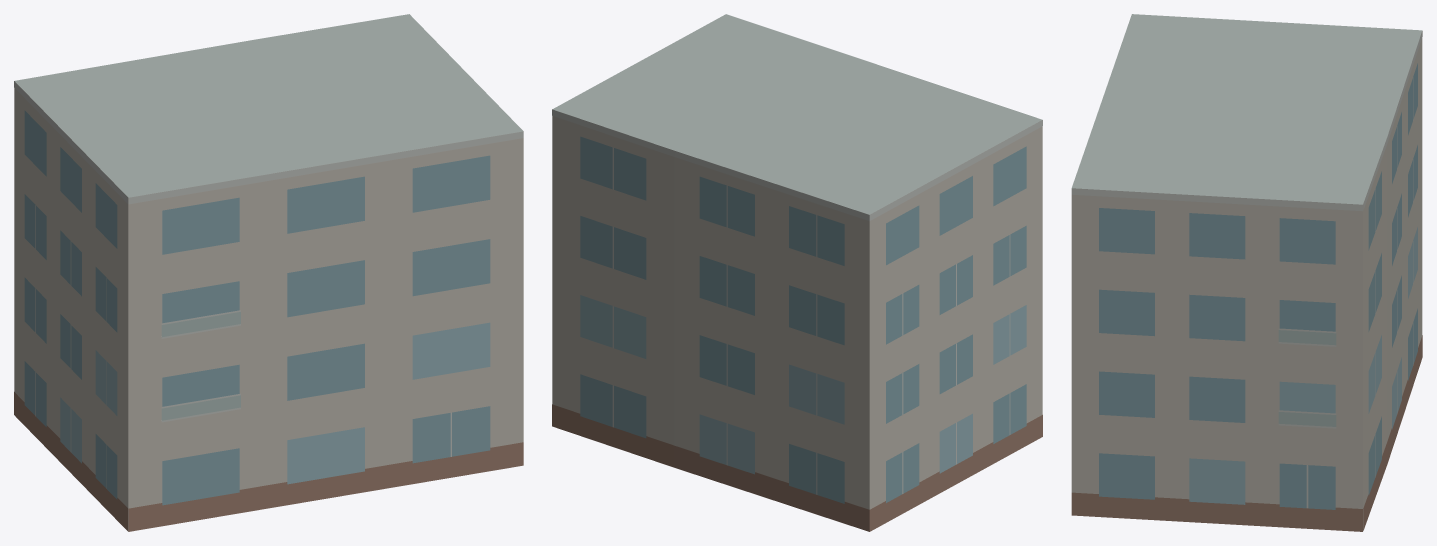
The model's file is survey-upis-33022476.glb.
The picture shows the model from 3 angles, left to right: view 1: azimuth 30°, elevation 25°; view 2: azimuth 150°, elevation 25°; view 3: azimuth 270°, elevation 25°; orthographic projection. The views are drawn at different scales.
Parts seen in each view (by area): view 1: survey-upis-33022476.tmp; view 2: survey-upis-33022476.tmp; view 3: survey-upis-33022476.tmp.
Boxes of the visible parts, <box> form: survey-upis-33022476.tmp: <box>14,14,523,531</box>; survey-upis-33022476.tmp: <box>552,14,1042,531</box>; survey-upis-33022476.tmp: <box>1071,14,1422,531</box>.
Size of the model in its own units: 15.26 by 12.2 by 11.87.
